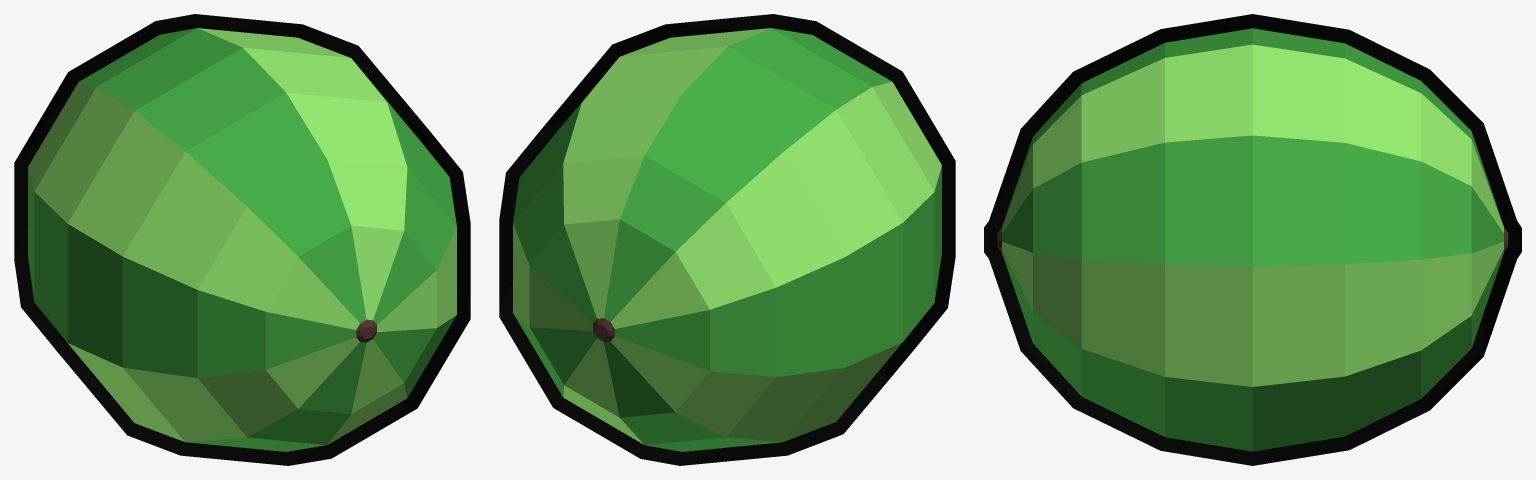
File: watermelon1.fbx
3 renders of one model, left to right at view 1: azimuth 30°, elevation 25°; view 2: azimuth 150°, elevation 25°; view 3: azimuth 270°, elevation 25°, orthographic.
Parts seen in each view (by area): view 1: Watermelon; view 2: Watermelon; view 3: Watermelon.
Part boxes in pixels (<box>): Watermelon: <box>14,14,470,465</box>; Watermelon: <box>499,14,955,465</box>; Watermelon: <box>984,14,1521,465</box>.
Size of the model in its own units: 120 by 126 by 148.
